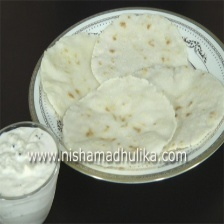roti: (45, 15, 224, 149)
